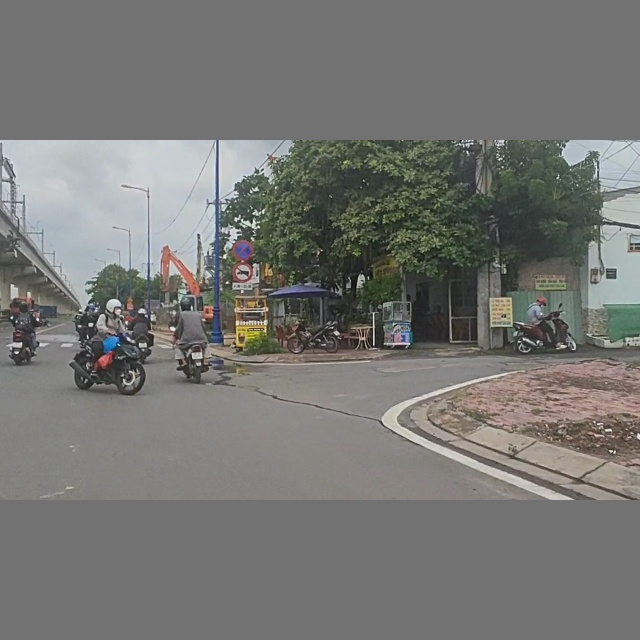B.8a: (232, 263, 254, 282)
P.130: (233, 240, 254, 261)
